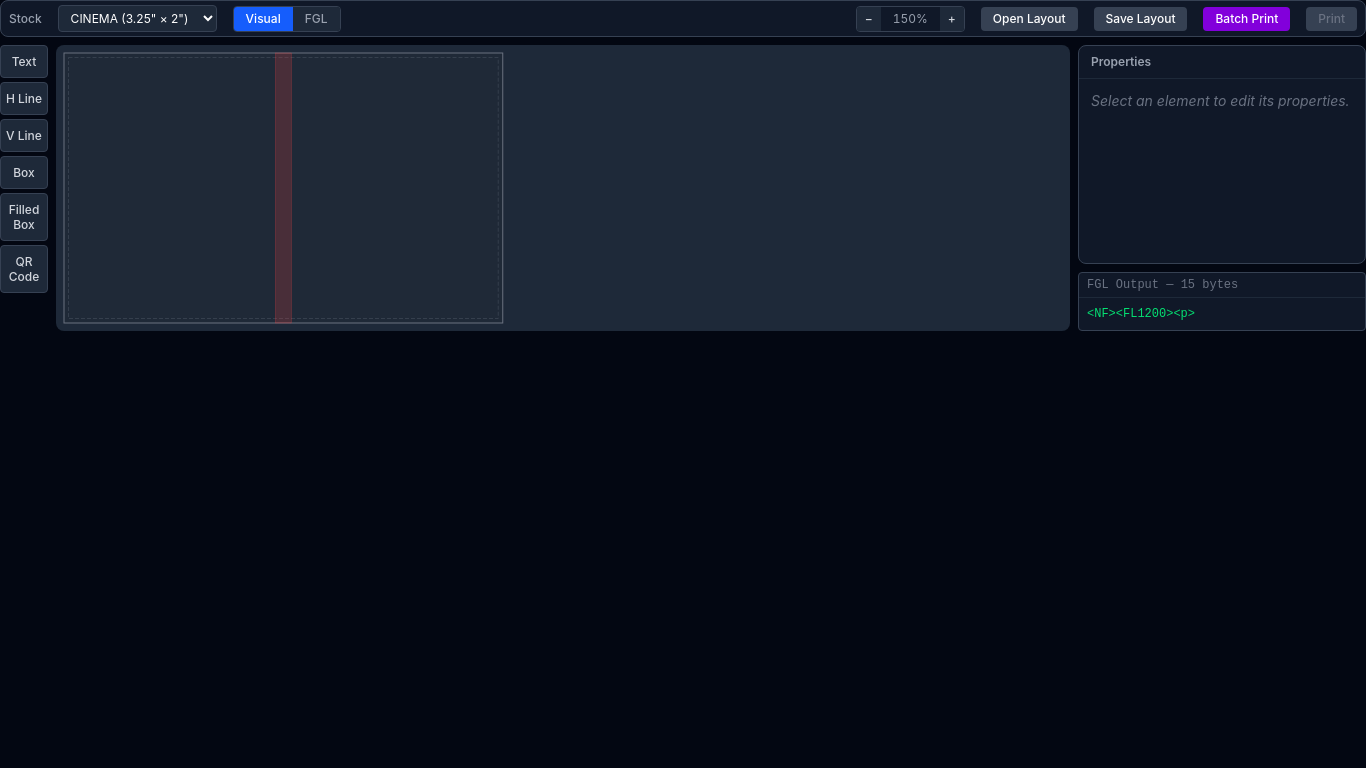
Test: TicketEditor › clicking "Batch Print" shows the BatchPrintPanel
Click the button "Batch Print" at (1247, 18), box left=1204, top=6, right=1290, bottom=30
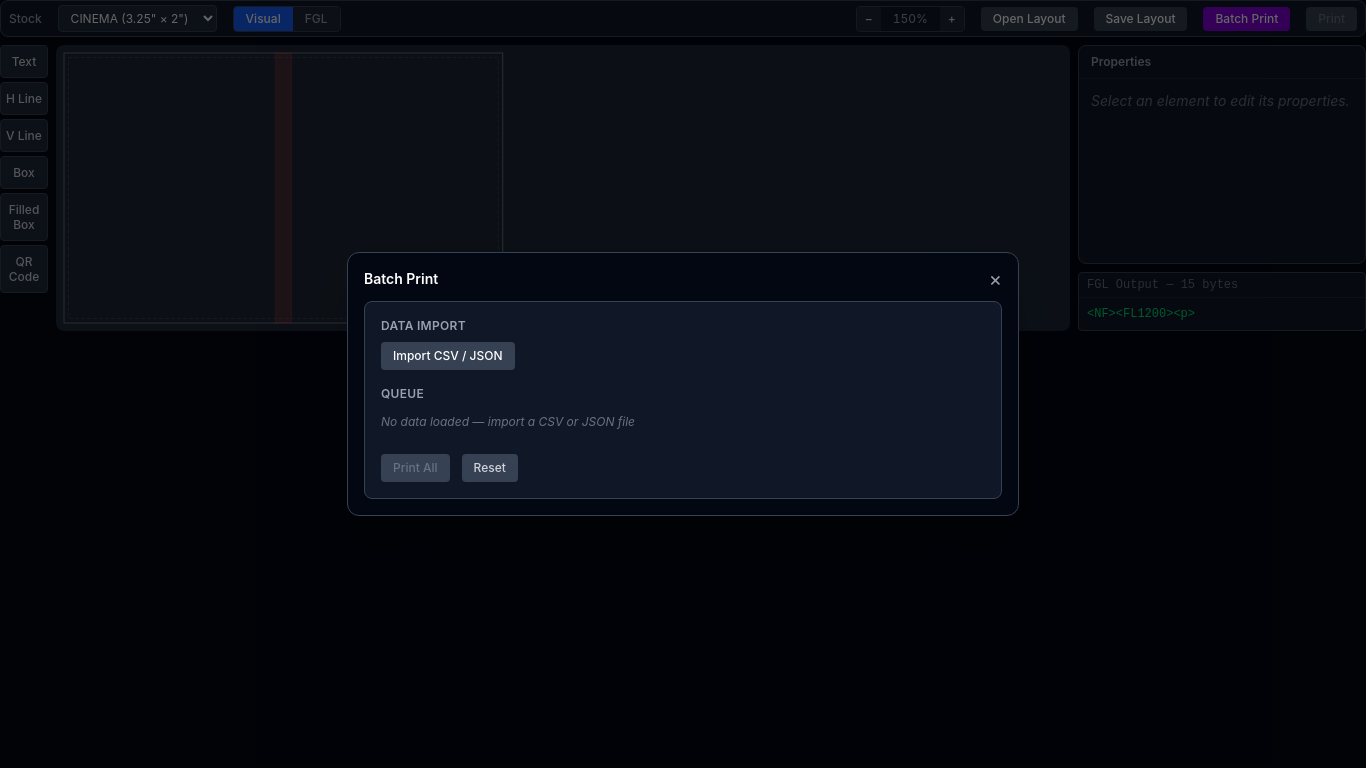
Check: the button "Print All" is shown, box left=381, top=454, right=450, bottom=482
